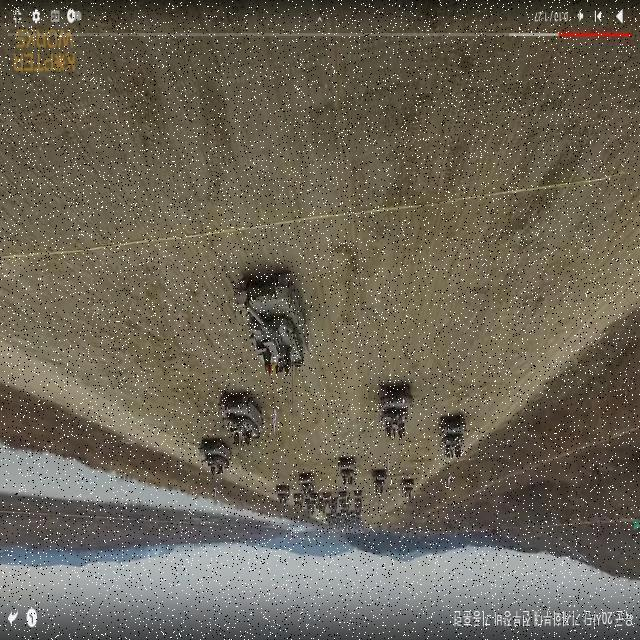MIL_MBT: (232, 272, 309, 376), (219, 388, 265, 444), (377, 384, 413, 440), (198, 438, 232, 476), (438, 414, 466, 459)
